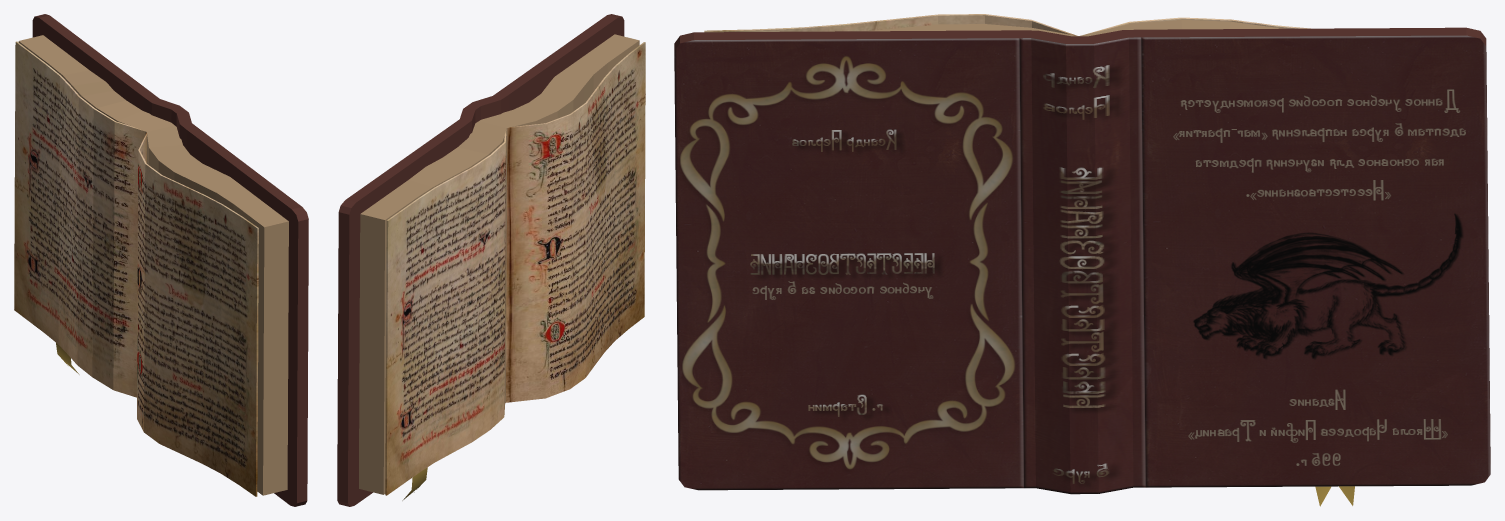
Rendered from книга.fbx.
3 renders of one model, left to right at view 1: azimuth 30°, elevation 25°; view 2: azimuth 150°, elevation 25°; view 3: azimuth 270°, elevation 25°, orthographic. The views are drawn at different scales.
Visible parts, largest first — view 1: книга; view 2: книга; view 3: книга.
Part boxes in pixels (x1,y1,x2,y2): книга: (14, 14, 308, 506); книга: (337, 14, 645, 506); книга: (674, 14, 1490, 506).
Size of the model in its own units: 17.37 by 75.25 by 115.
Materials: 5 (2 with a texture image).
